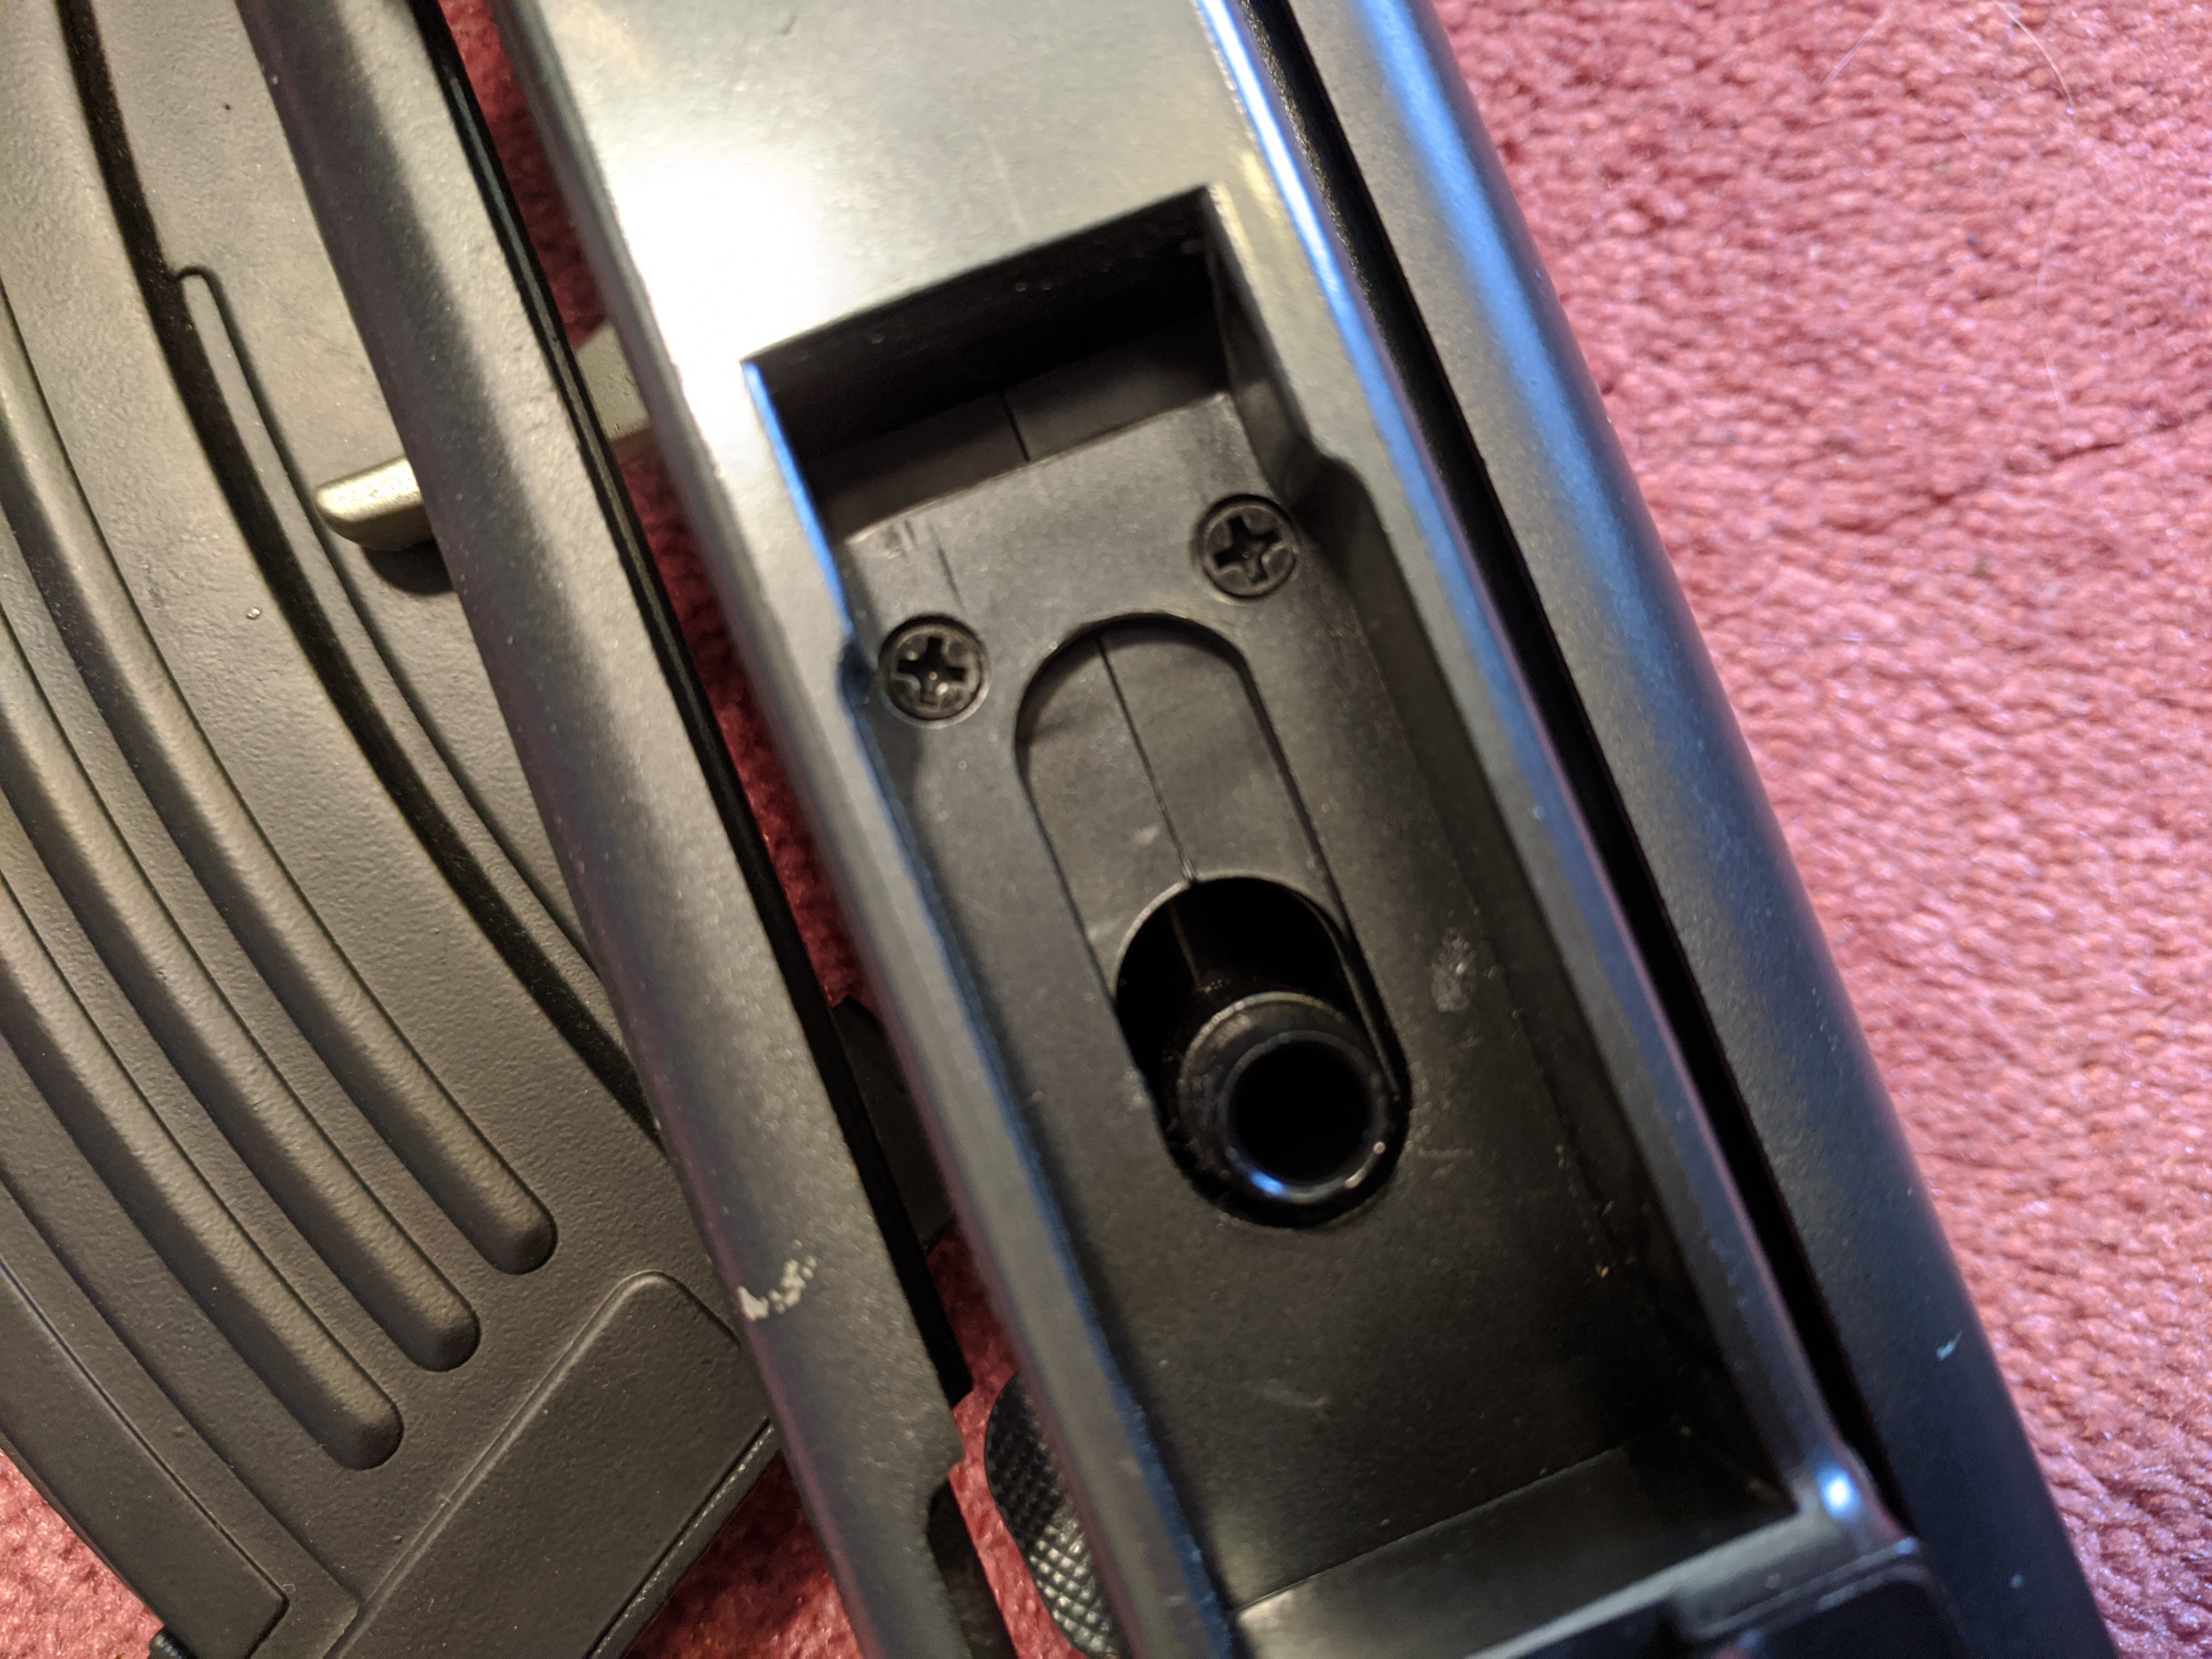cross_recessed_screw: (867, 606, 1007, 735), (1184, 484, 1310, 624)
